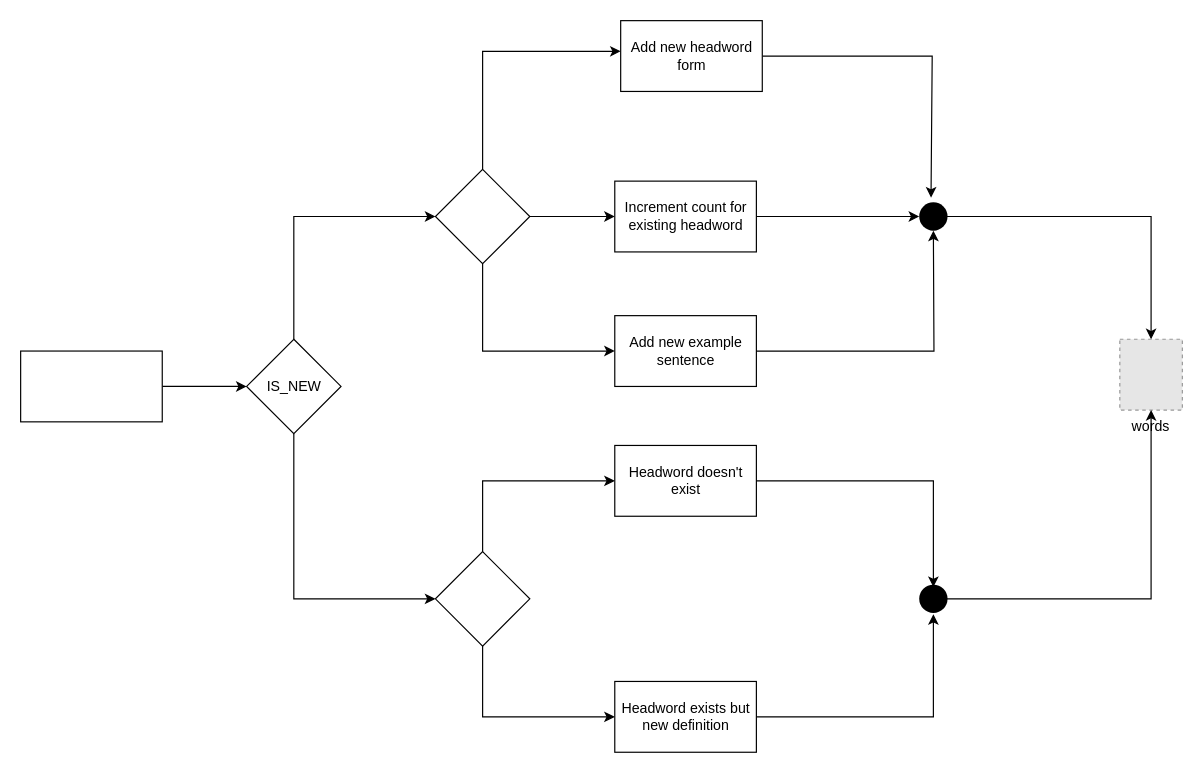
Some shapes in this 1204 by 773 pixel diagram are drawn without their labels. Grey dashed boxes stand in for pictures. Each missing label, with the centre of its shape:
Data Gateway: the point at 90,386
False Strategy: the point at 482,216
True Strategy: the point at 482,598
